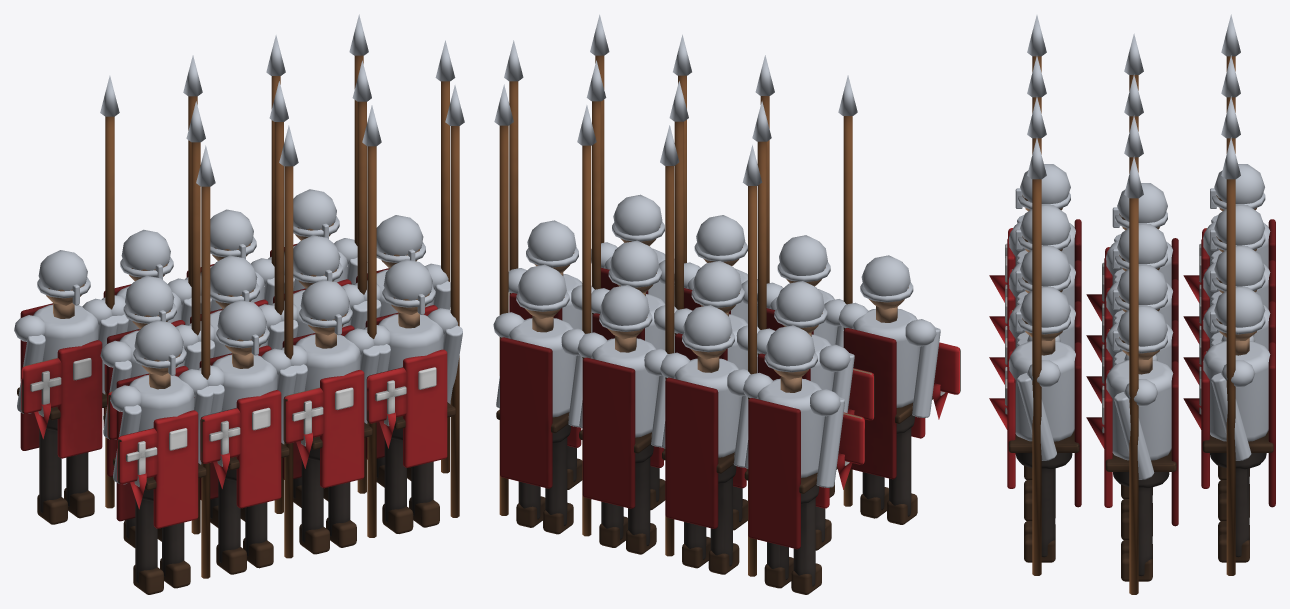
The model's file is squad_red.glb.
The picture shows the model from 3 angles, left to right: view 1: azimuth 30°, elevation 25°; view 2: azimuth 150°, elevation 25°; view 3: azimuth 270°, elevation 25°; orthographic projection.
Visible parts, largest first — view 1: leg; view 2: leg; view 3: leg.
Part boxes in pixels (x1,y1,x2,y2): leg: [14, 14, 464, 594]; leg: [493, 14, 960, 594]; leg: [989, 14, 1275, 594].
Size of the model in its own units: 0.6183 by 0.646 by 0.384.
Materials: 2 (1 with a texture image).
